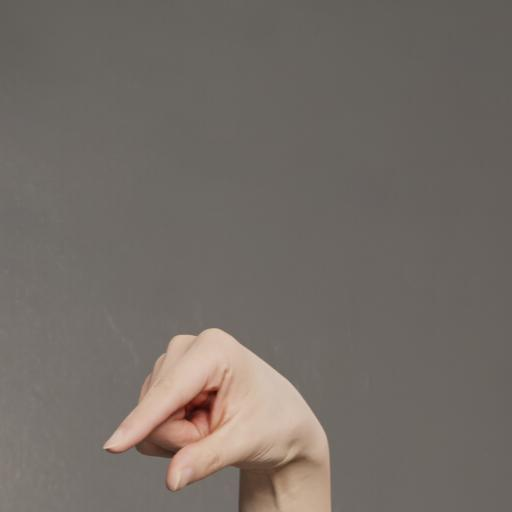Q: (90, 317, 338, 512)
